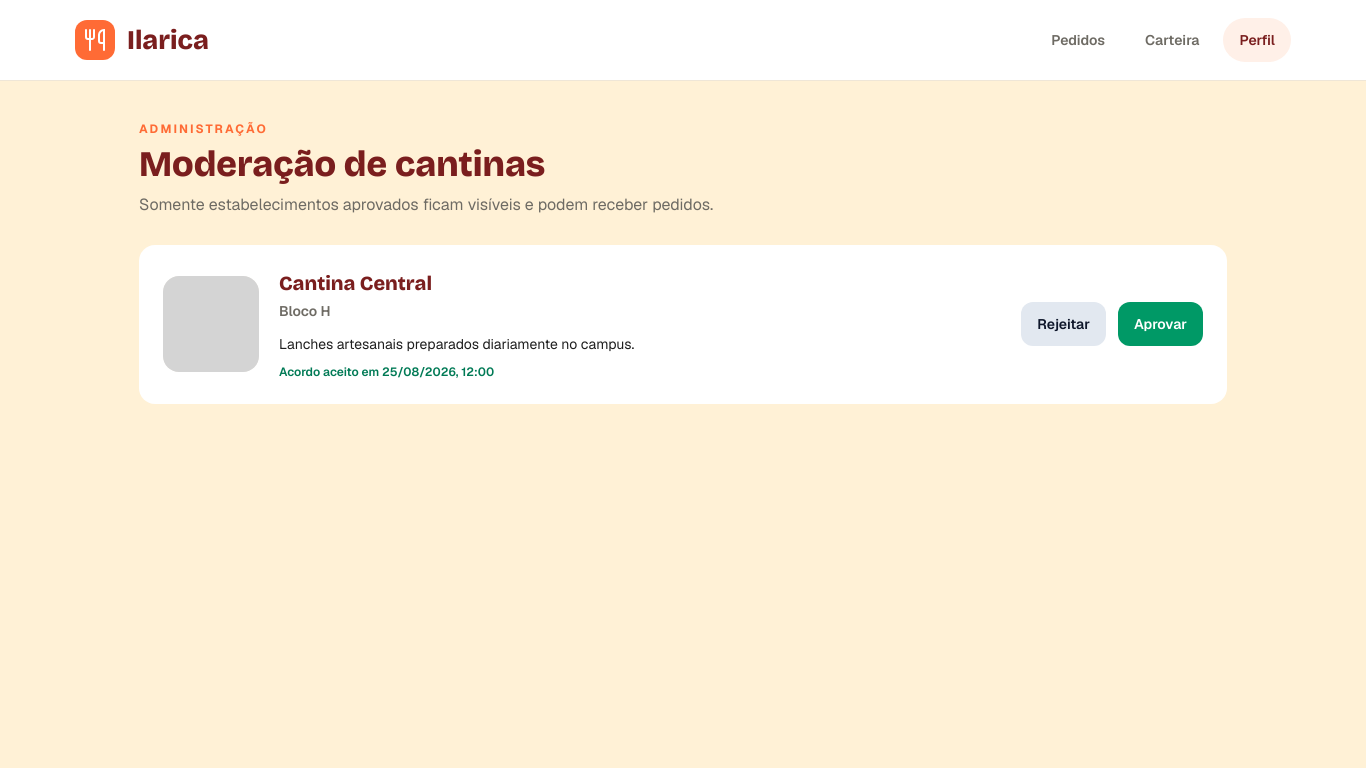
Scenario: AdminCanteenModerationPage › requires a clear reason before rejecting a registration
expect the heading "Cantina Central" is shown: met, box [279,271,432,295]
Click the button "Rejeitar" at (1064, 324), box [1021,302,1106,346]
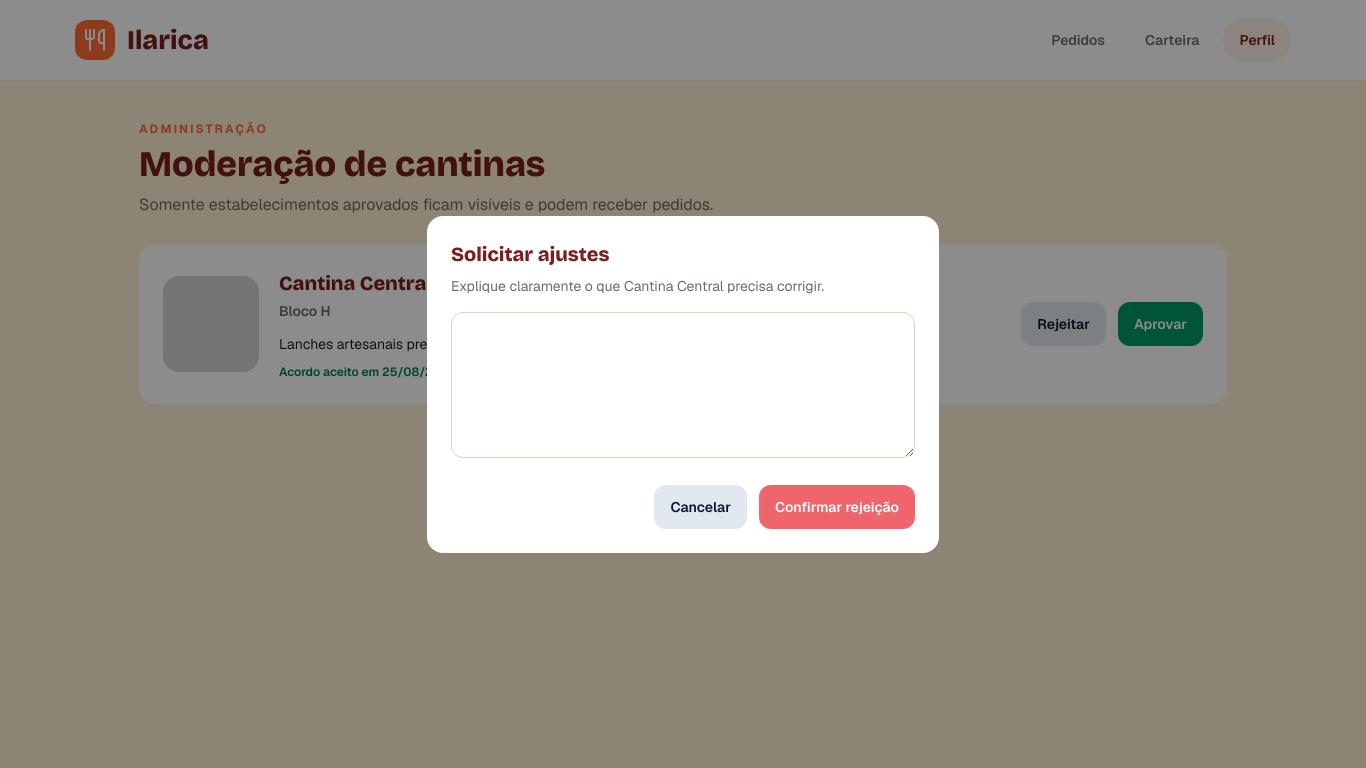
expect the button "Confirmar rejeição" is disabled: met, box [759,484,915,528]
Type "Atualize a logo enviada." into the text box named "Motivo da rejeição" at (683, 384), box [451,312,915,458]
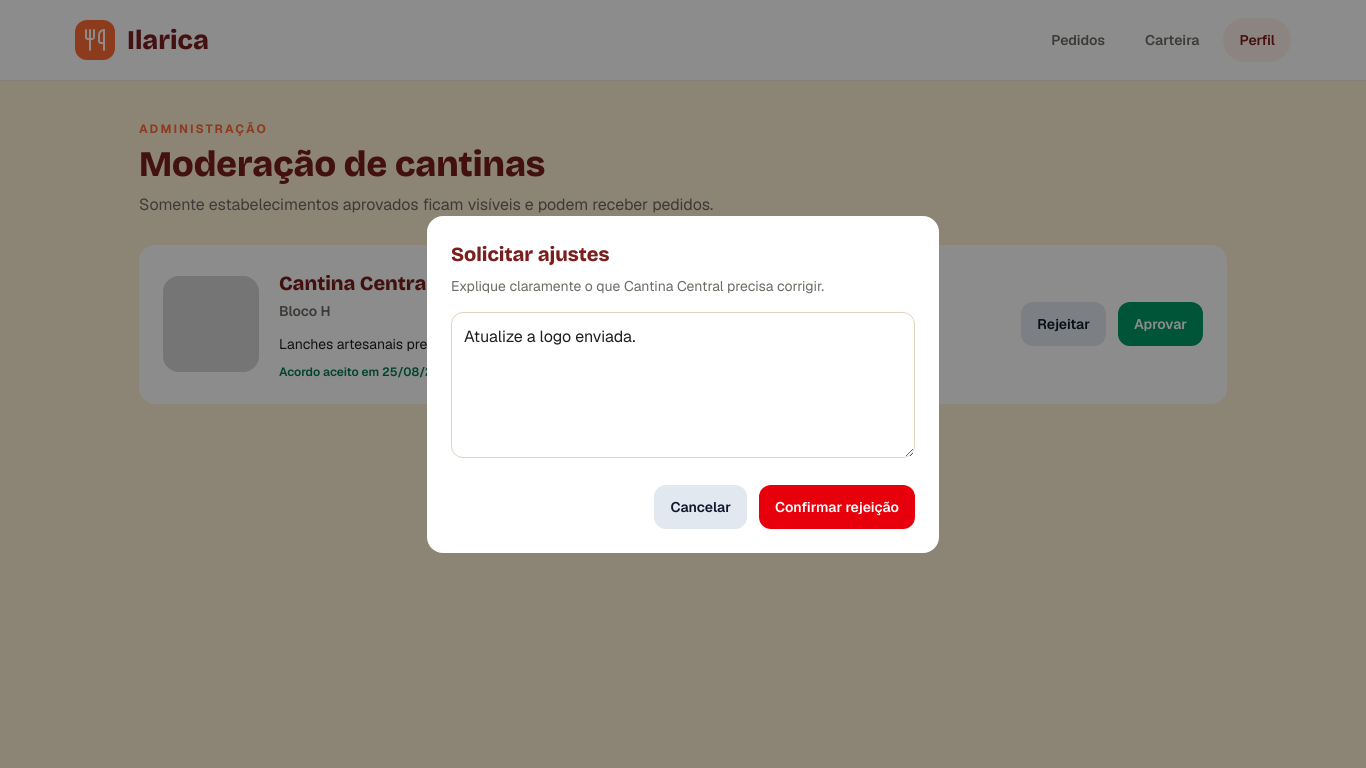
Click the button "Confirmar rejeição" at (837, 506), box [759,484,915,528]
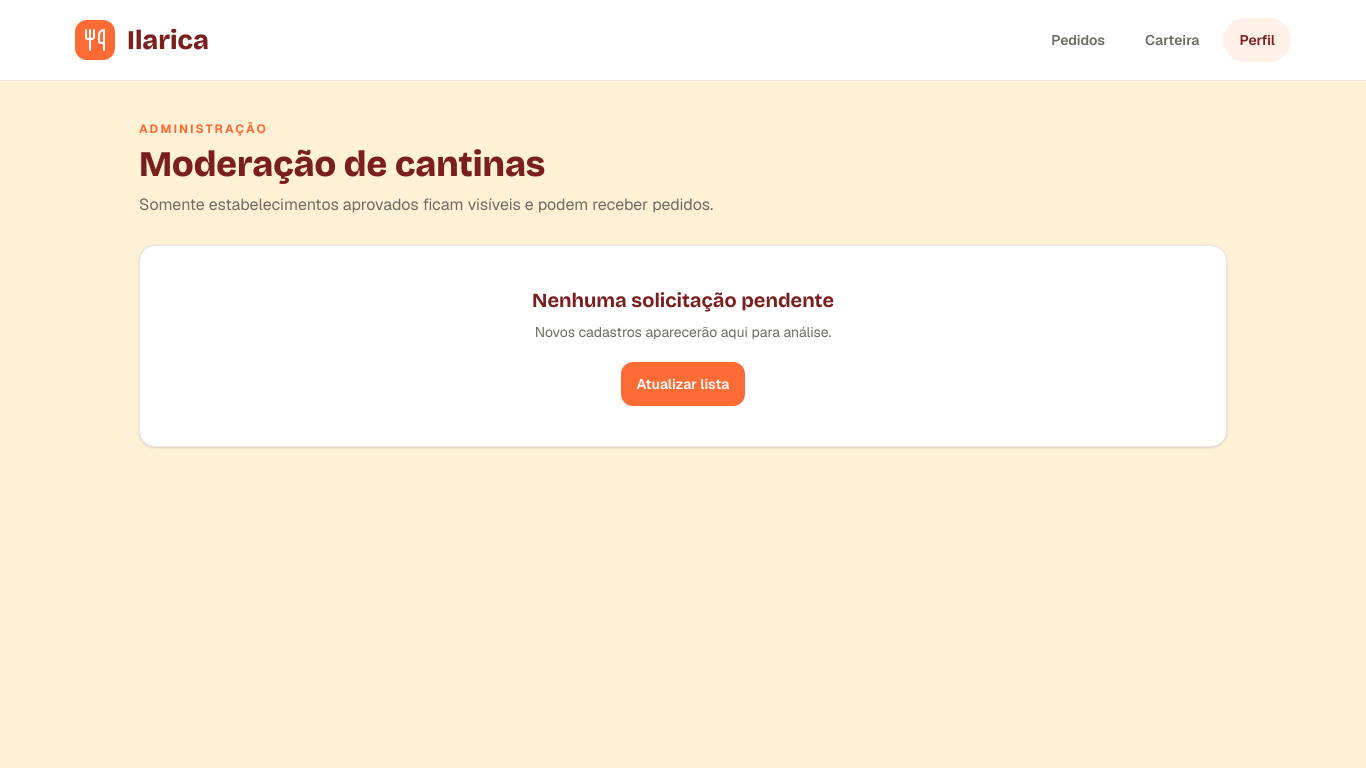
expect the heading "Nenhuma solicitação pendente" is shown: met, box [532,288,834,312]
